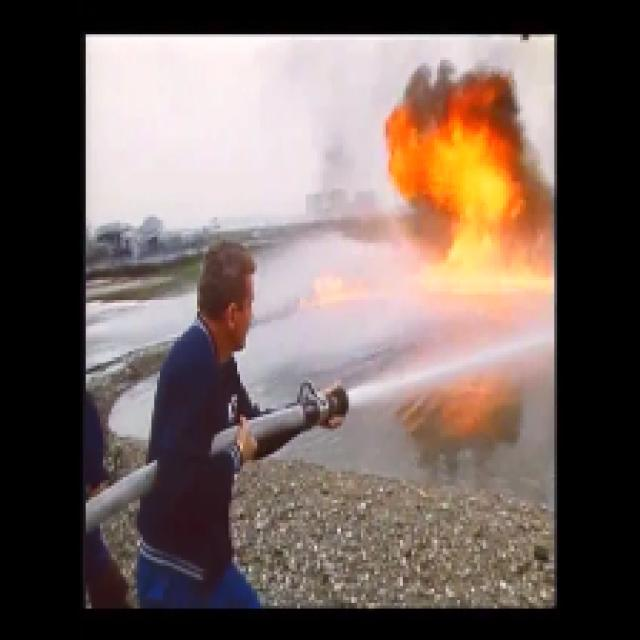fire: (390, 84, 520, 270)
